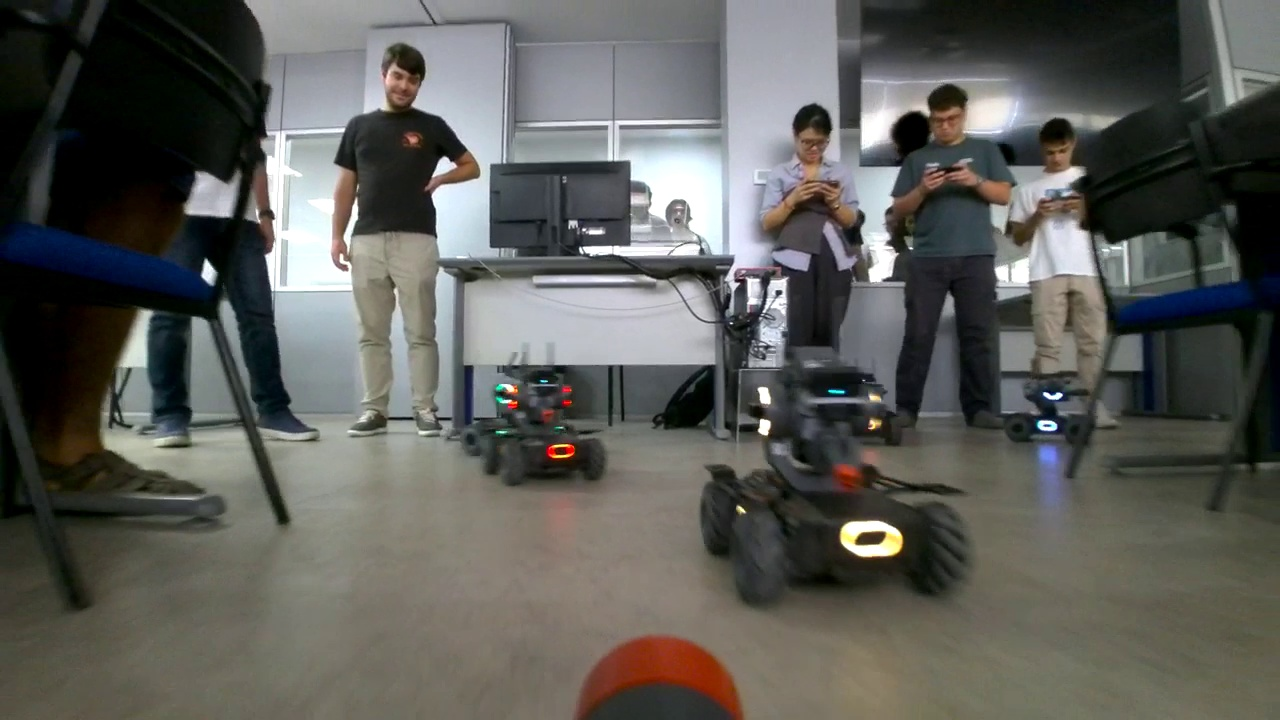robot: (699, 309, 966, 606), (478, 361, 606, 481), (460, 354, 560, 457), (1008, 362, 1091, 443)
